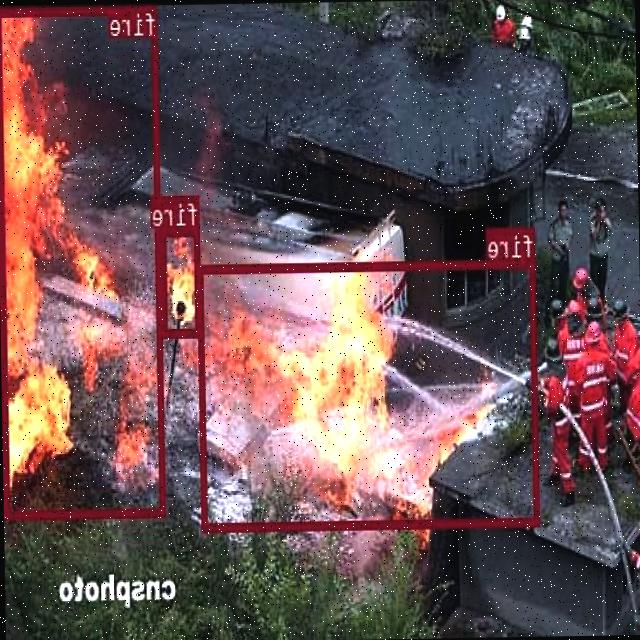fire: (198, 257, 542, 530), (0, 3, 167, 516), (161, 226, 203, 335)
